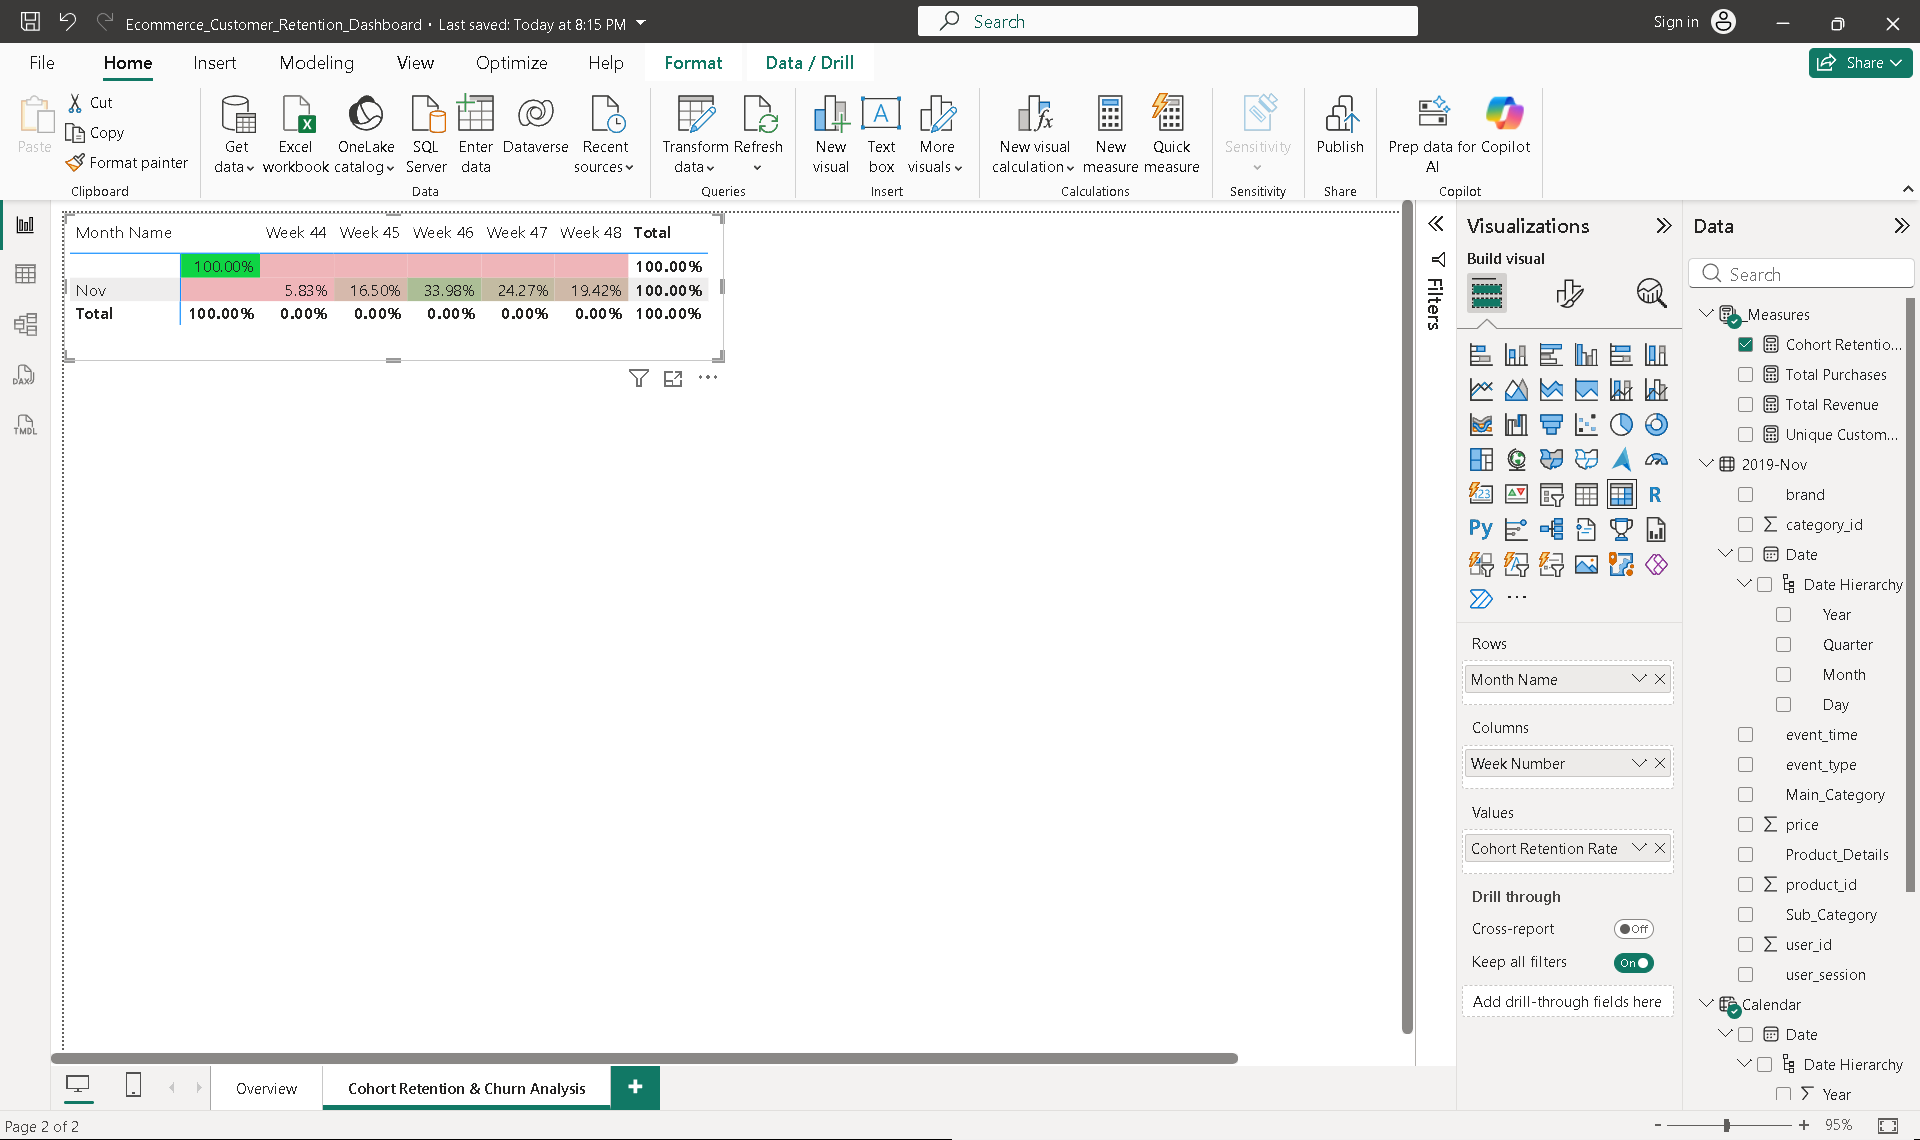

What the dashboard file says about the page in this screenshot:
{"tool":"powerbi","page":{"name":"Cohort Retention & Churn Analysis","canvas":[1280,720],"ordinal":1},"visuals":[{"type":"pivotTable","fields":{"Rows":["Calendar.Month Name"],"Columns":["Calendar.Week Number"],"Values":["_Measures.Cohort Retention Rate"]},"box":[0,0,555.8,125.3],"z":0}]}

Visuals, with their boxes on the page's 1280x720 design canvas (x1, y1, x2, y2). These are canvas units, not pixel positions in the 1920x1140 screenshot, which may show the page scaled, cropped or inside an application window:
pivotTable - Calendar.Month Name x Calendar.Week Number: [left=0, top=0, right=556, bottom=125]
